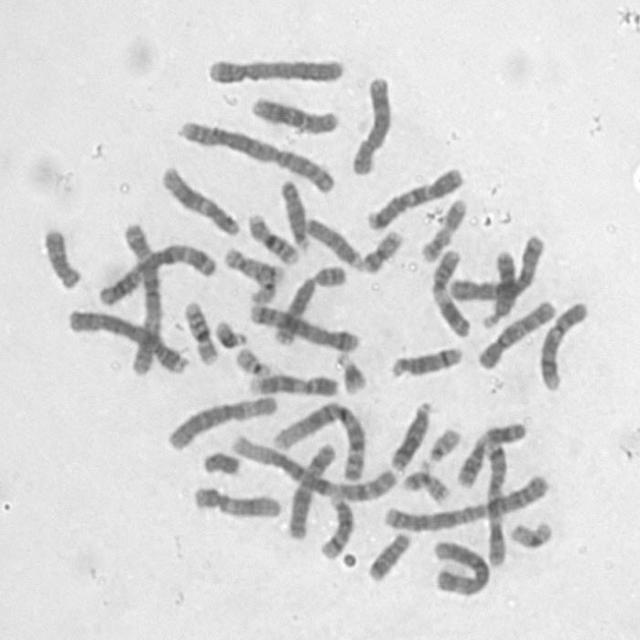A1: (224, 427, 400, 503), (266, 393, 369, 483)
A2: (171, 112, 339, 194), (377, 467, 552, 532)
A3: (91, 235, 219, 308), (116, 214, 164, 378)
B4: (60, 302, 190, 375), (201, 49, 347, 86)
B5: (446, 227, 547, 303), (245, 297, 362, 353)
C10: (470, 292, 560, 372), (245, 90, 342, 136)
C11: (452, 415, 530, 489), (426, 241, 473, 339)
C12: (154, 157, 242, 238), (187, 479, 284, 520)
C6: (162, 388, 280, 452), (426, 534, 492, 598)
C7: (360, 159, 466, 231), (480, 432, 510, 568)
C8: (268, 257, 350, 347), (345, 68, 395, 177)
C9: (533, 293, 591, 392), (244, 366, 342, 398)
D13: (385, 393, 436, 473), (476, 243, 519, 329)
D14: (384, 338, 466, 380), (313, 489, 355, 561)
D15: (298, 210, 364, 270), (274, 172, 311, 251)
E16: (242, 206, 301, 266), (178, 293, 220, 366)
E17: (416, 191, 470, 263), (218, 240, 281, 283)
E18: (37, 220, 84, 291), (362, 525, 413, 583)
F19: (504, 513, 556, 551), (245, 268, 278, 305)
F20: (355, 222, 406, 274), (397, 462, 452, 505)
G21: (331, 345, 370, 395), (210, 313, 249, 349)
G22: (422, 421, 463, 464), (229, 340, 273, 378)
X: (446, 227, 547, 303), (281, 436, 338, 540)
Y: (196, 443, 243, 477)
